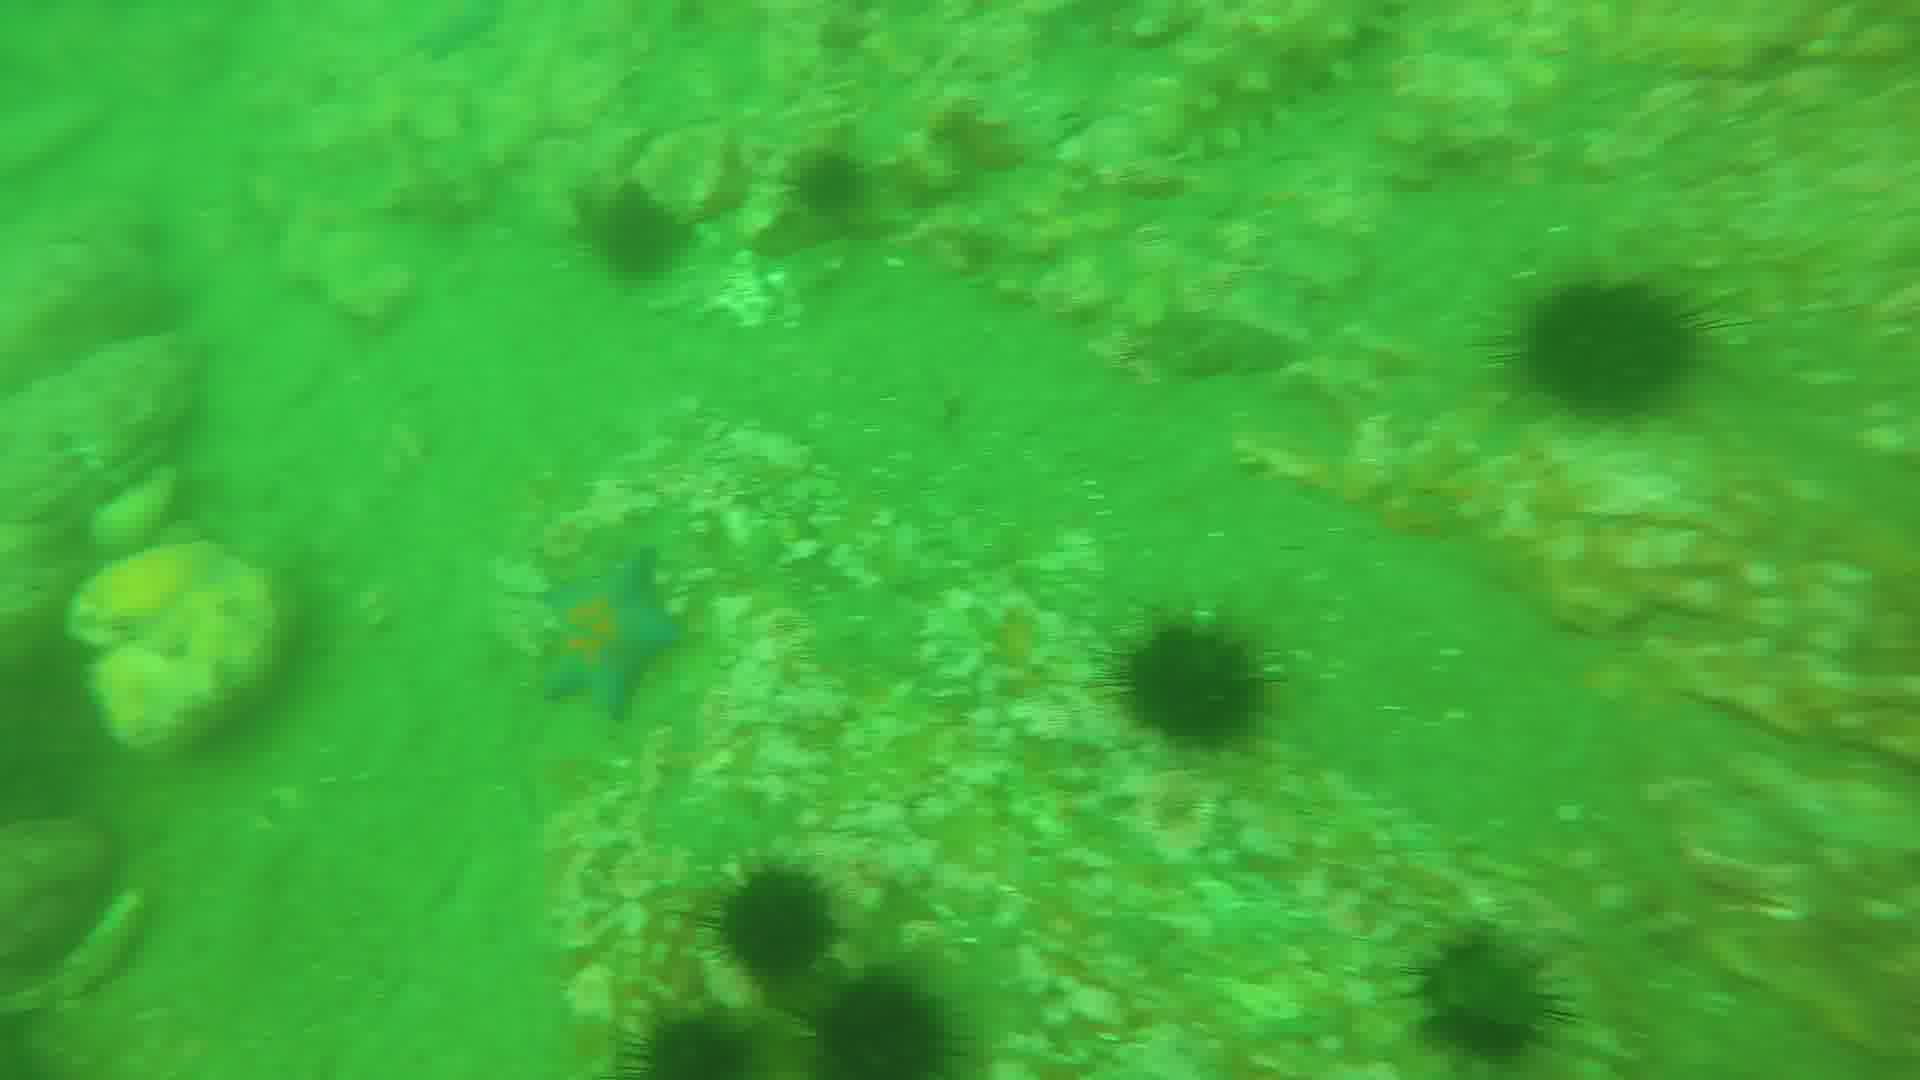echinus: (1522, 277, 1705, 415), (1120, 624, 1276, 746), (1412, 932, 1557, 1059), (802, 971, 964, 1080), (707, 862, 829, 982), (618, 1007, 756, 1080), (600, 194, 680, 269), (807, 156, 869, 214)
holothurian: (1174, 1, 1396, 160)
starfish: (530, 559, 673, 715)
